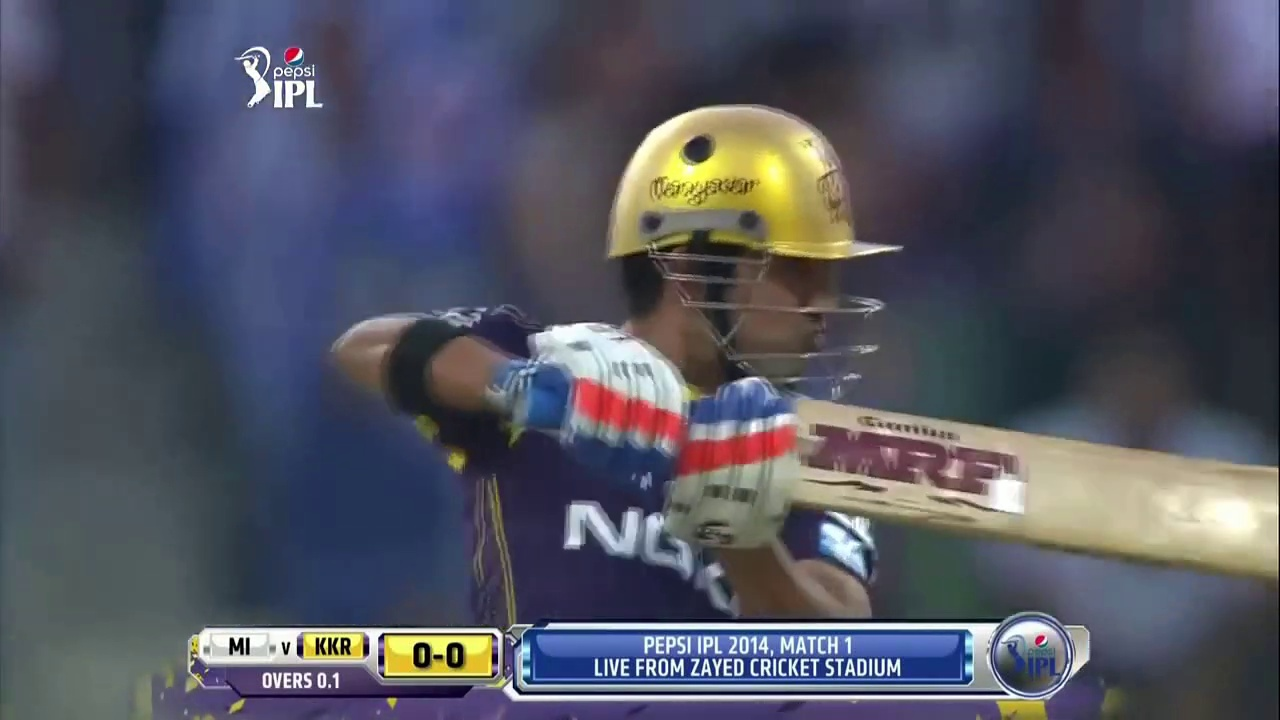bat: (803, 395, 1280, 581)
